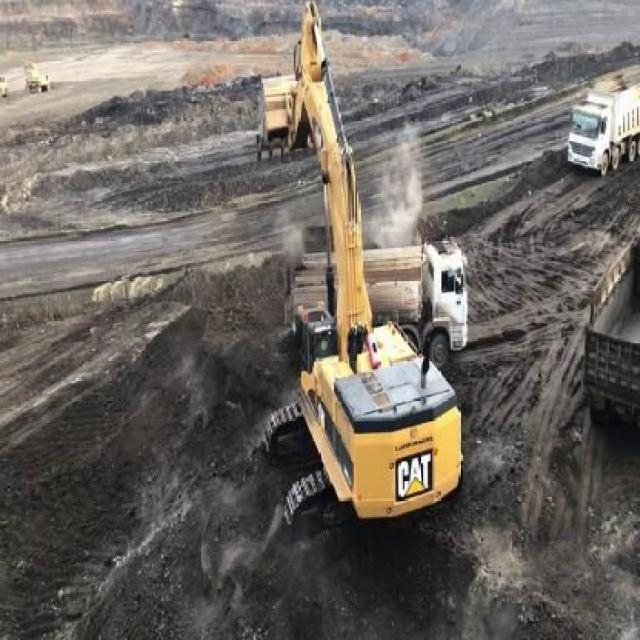Dump Truck: (286, 240, 468, 366), (582, 236, 638, 413), (568, 67, 638, 168)
Excavator: (252, 0, 464, 558)
